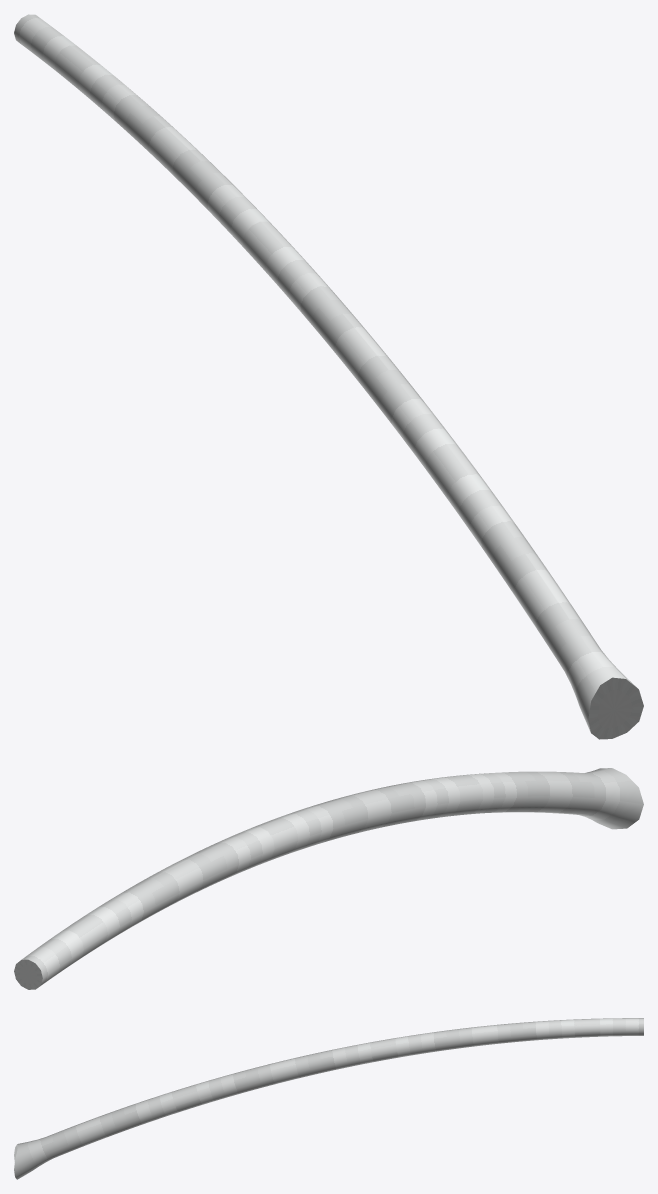
Rendered from luminairearm_caltrans15ft_inv.obj.
3 views of the same model, one above another, from view 1: azimuth 30°, elevation 25°; view 2: azimuth 150°, elevation 25°; view 3: azimuth 270°, elevation 25° (orthographic). The views are drawn at different scales.
Parts seen in each view (by area): view 1: luminairearm_caltrans15ft_inv; view 2: luminairearm_caltrans15ft_inv; view 3: luminairearm_caltrans15ft_inv.
Part boxes in pixels (x1,y1,x2,y2): luminairearm_caltrans15ft_inv: (14,14,643,739); luminairearm_caltrans15ft_inv: (14,768,643,989); luminairearm_caltrans15ft_inv: (14,1018,643,1179).
Size of the model in its own units: 0.0547 by 0.279 by 1.
